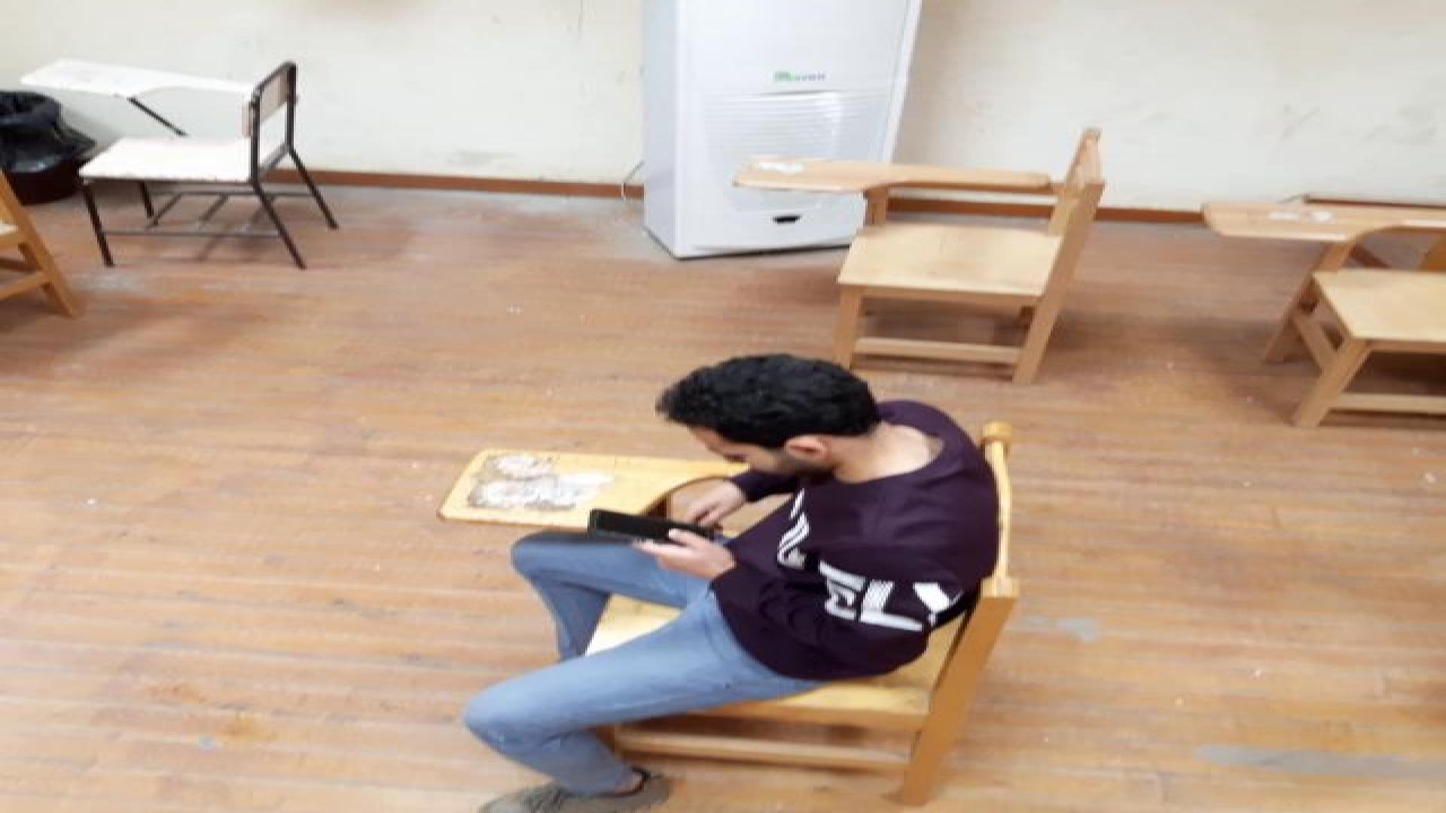phone: (589, 510, 715, 545)
